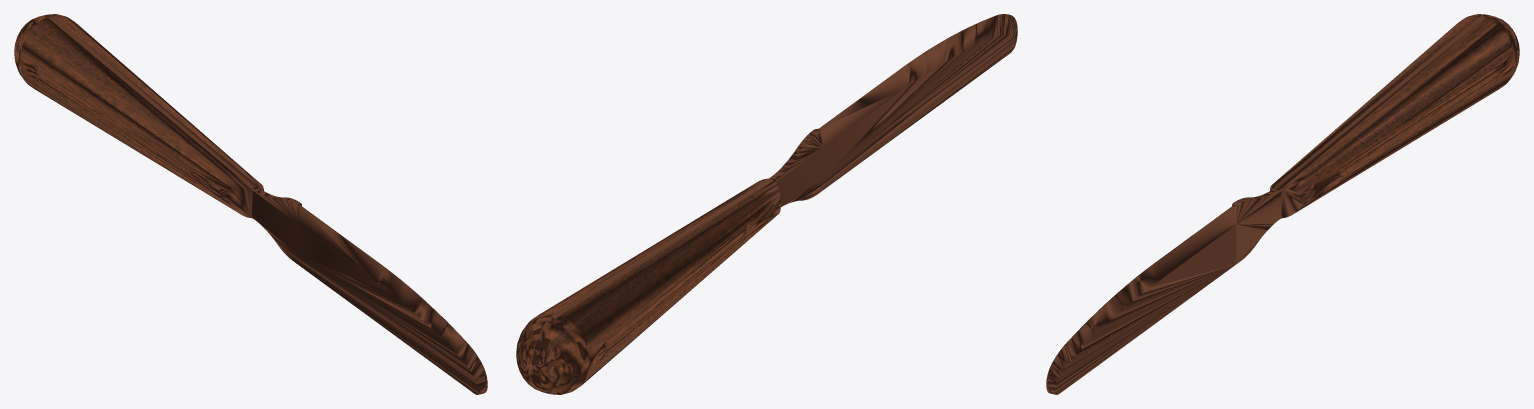
Rendered from model_align.obj.
The picture shows the model from 3 angles, left to right: view 1: azimuth 30°, elevation 25°; view 2: azimuth 150°, elevation 25°; view 3: azimuth 330°, elevation 25°; orthographic projection. The views are drawn at different scales.
Bounding box in the file's own units: 0.0182 × 0.0194 × 0.2222.
Materials: 3 (3 with a texture image).
